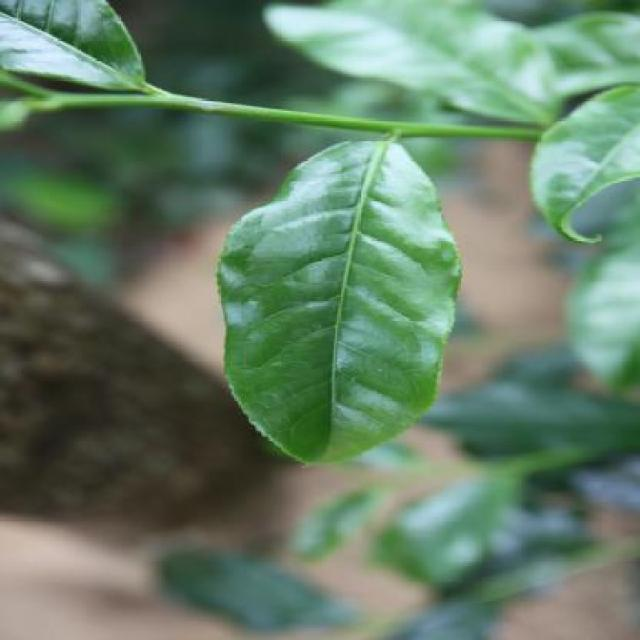Tea leaf: (204, 120, 470, 471)
